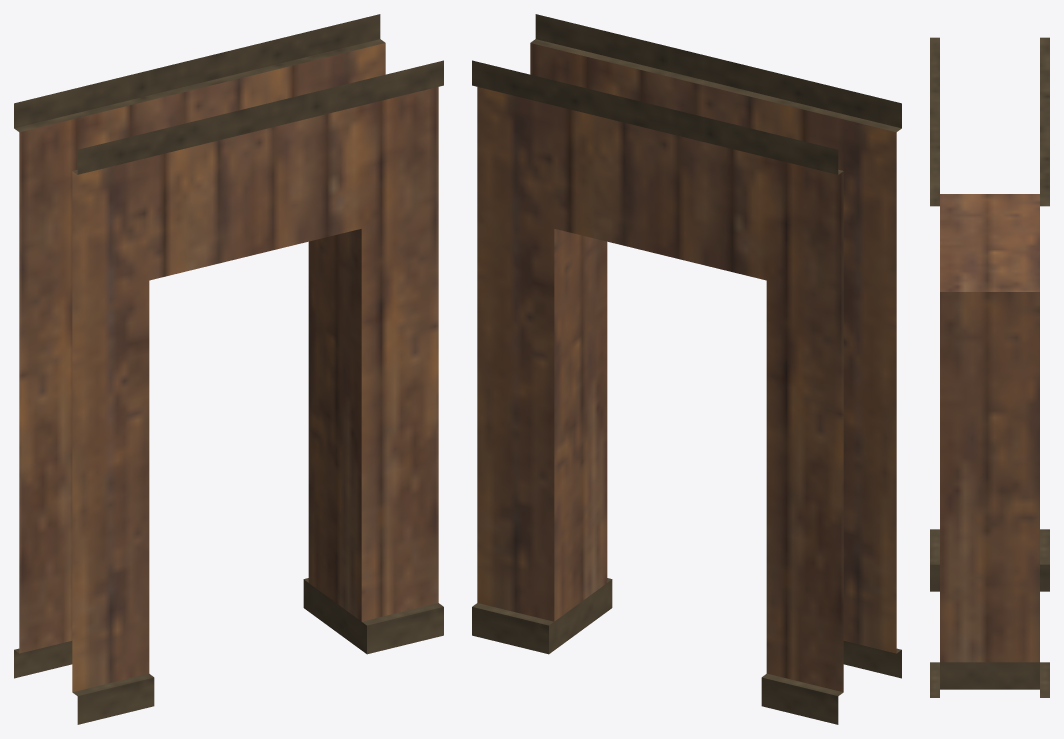
The model's file is MS_3mWallpiece_Door.fbx.
3 renders of one model, left to right at view 1: azimuth 30°, elevation 25°; view 2: azimuth 150°, elevation 25°; view 3: azimuth 270°, elevation 25°, orthographic. The views are drawn at different scales.
Parts seen in each view (by area): view 1: Cube; view 2: Cube; view 3: Cube.
Boxes of the visible parts, box(x1,y1,x2,y2) form: Cube: box(14, 14, 443, 724); Cube: box(472, 14, 901, 724); Cube: box(930, 37, 1049, 697).
Size of the model in its own units: 200 by 300 by 60.
